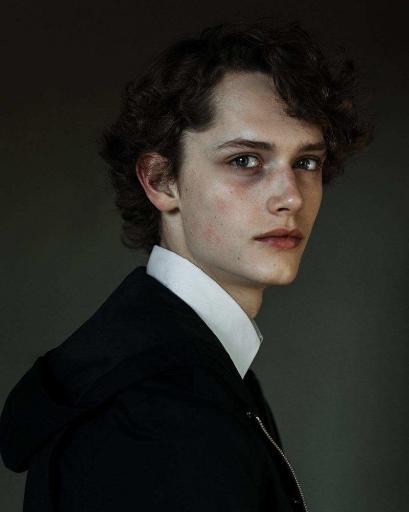left_eye: (293, 156, 322, 175)
left_lip_corner: (296, 230, 307, 246)
right_eye: (223, 152, 266, 175)
right_lip_corner: (250, 230, 265, 250)
